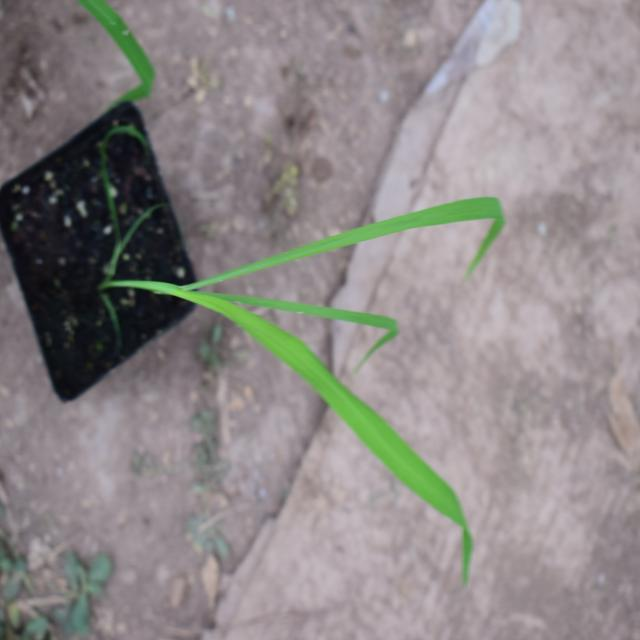barnyard_grass: (132, 160, 518, 550)
